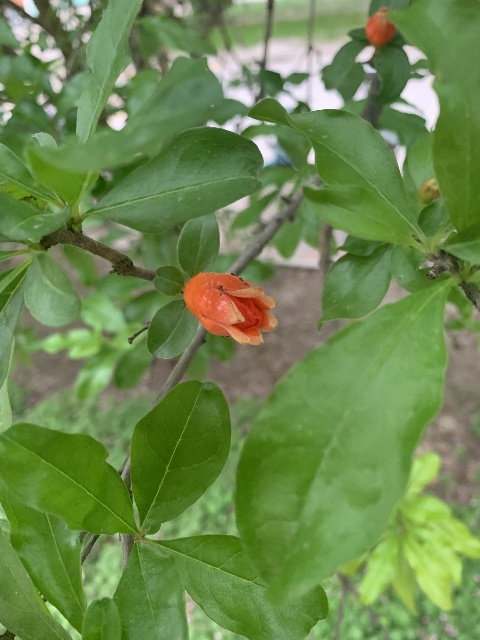bud: (365, 6, 396, 47)
flower: (183, 270, 278, 346)
